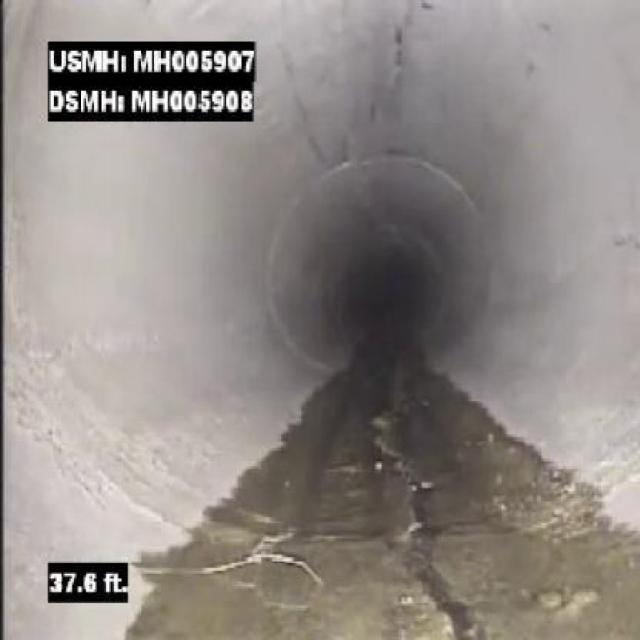Buckling: (389, 463, 477, 639)
Crack: (382, 1, 429, 90)
